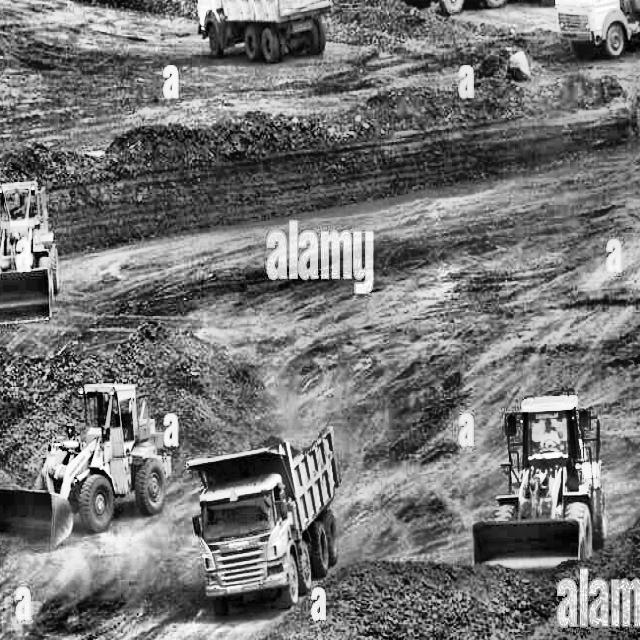buldozerpayloadergrader: (0, 363, 176, 542), (467, 375, 606, 572), (0, 178, 58, 321)
dump_truck: (182, 427, 343, 617), (191, 0, 332, 60), (549, 0, 640, 50)
